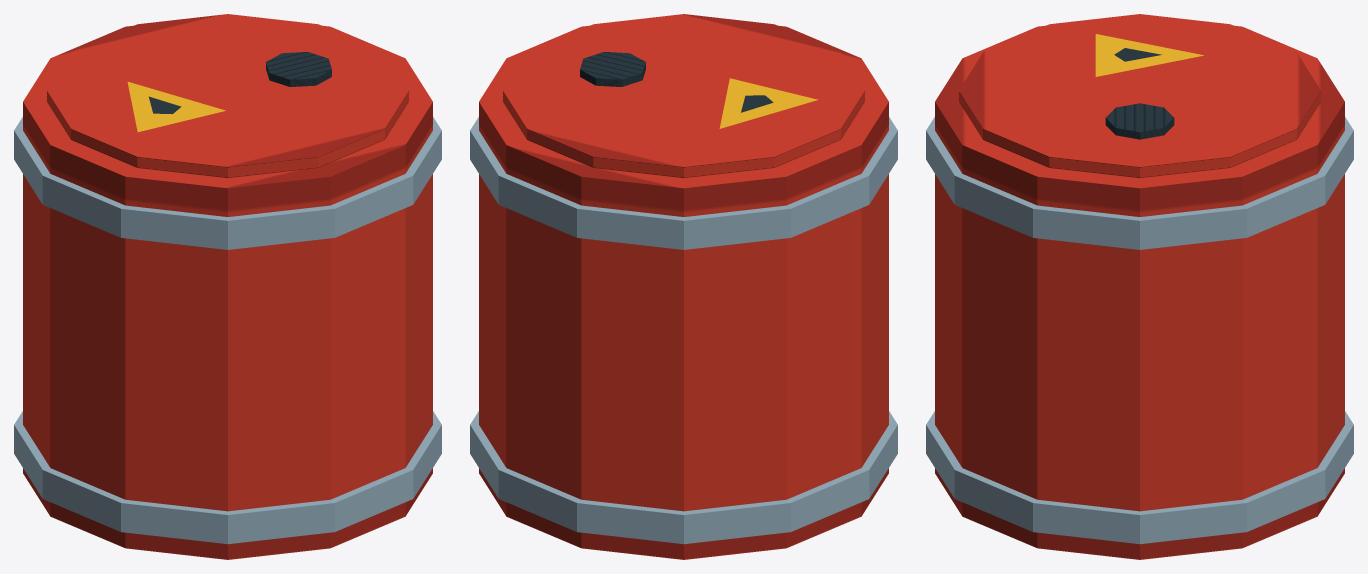
File: prop-fuel-barrel-1x1.glb
The picture shows the model from 3 angles, left to right: view 1: azimuth 30°, elevation 25°; view 2: azimuth 150°, elevation 25°; view 3: azimuth 270°, elevation 25°; orthographic projection.
Parts seen in each view (by area): view 1: prop-fuel-barrel-1x1; view 2: prop-fuel-barrel-1x1; view 3: prop-fuel-barrel-1x1.
Boxes of the visible parts, bbox=[...] form: prop-fuel-barrel-1x1: bbox=[14, 14, 441, 559]; prop-fuel-barrel-1x1: bbox=[470, 14, 897, 559]; prop-fuel-barrel-1x1: bbox=[926, 14, 1353, 559].
Size of the model in its own units: 0.626 by 0.63 by 0.626.
1 material, 1 textured.
